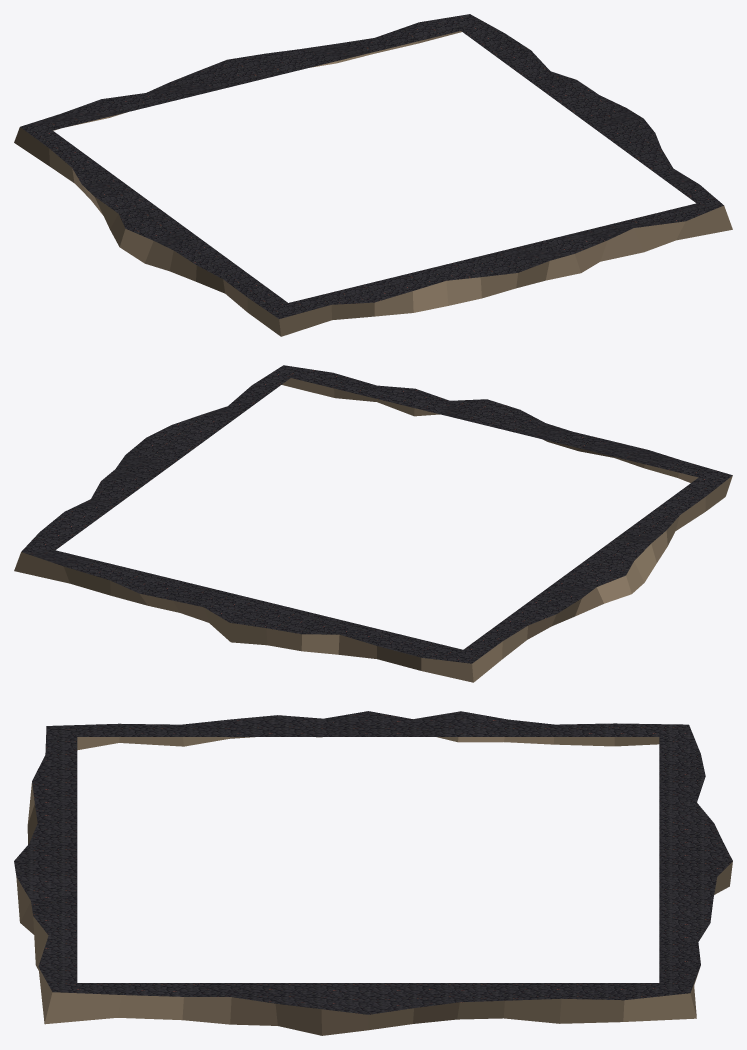
File: entorno_18.fbx
3 renders of one model, top to bottom at view 1: azimuth 30°, elevation 25°; view 2: azimuth 150°, elevation 25°; view 3: azimuth 270°, elevation 25°, orthographic. The views are drawn at different scales.
Visible parts, largest first — view 1: vulcao_entorno_18; view 2: vulcao_entorno_18; view 3: vulcao_entorno_18.
Boxes of the visible parts, x1,y1,x2,y2 form: vulcao_entorno_18: [14, 14, 732, 336]; vulcao_entorno_18: [14, 365, 732, 682]; vulcao_entorno_18: [14, 711, 732, 1035].
Bounding box in the file's own units: 2260 × 107 × 2249.
